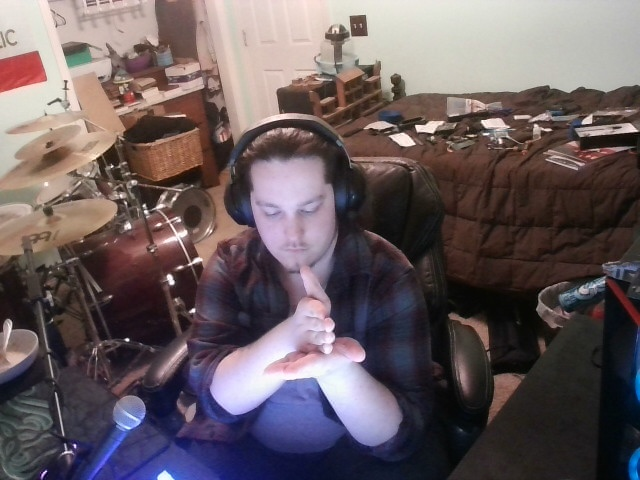stop: (237, 256, 400, 399)
